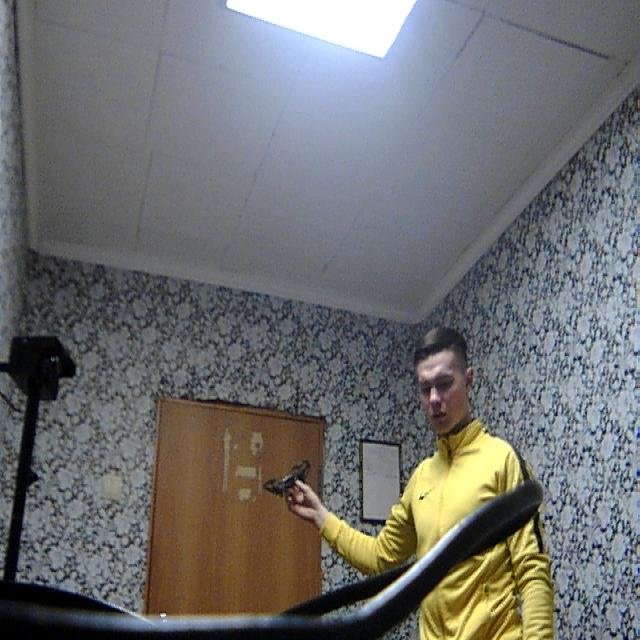drone: (254, 448, 316, 504)
